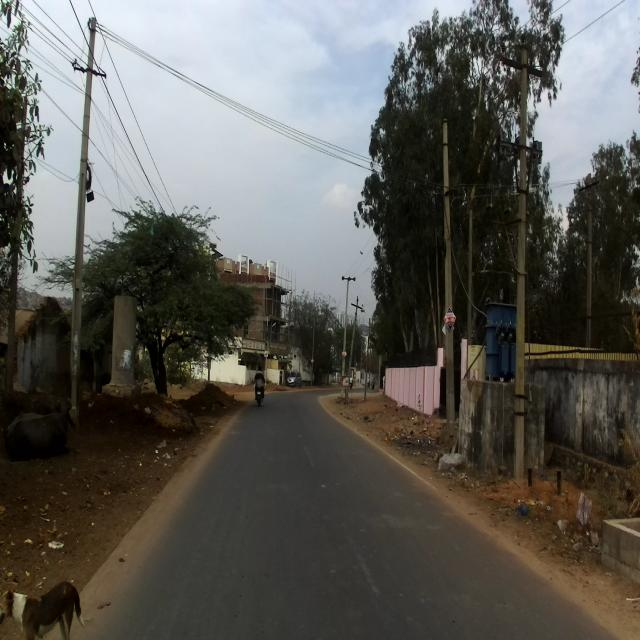Dog ahead at: (0, 577, 85, 640)
electric pole ahead at: (489, 26, 553, 490), (61, 10, 106, 435)
truck ahead at: (130, 307, 194, 399)
